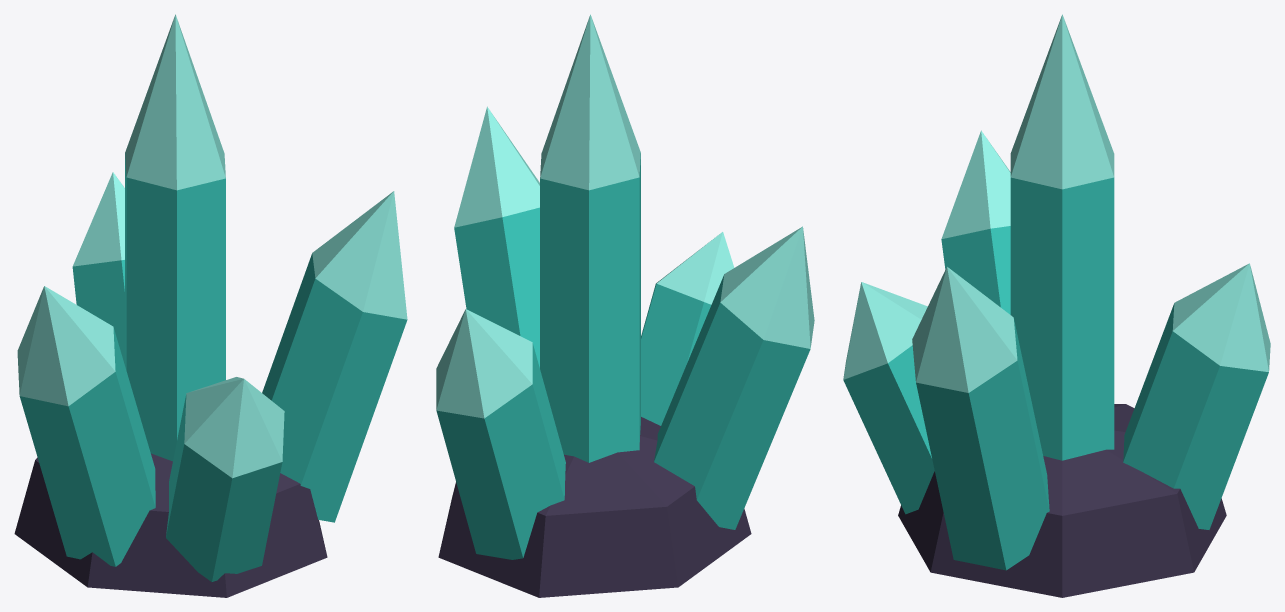
File: env_r12_crystal_cluster_teal.glb
3 views of the same model, side by side, from view 1: azimuth 30°, elevation 25°; view 2: azimuth 150°, elevation 25°; view 3: azimuth 270°, elevation 25° (orthographic).
Visible parts, largest first — view 1: env_r12_crystal_cluster_teal; view 2: env_r12_crystal_cluster_teal; view 3: env_r12_crystal_cluster_teal.
Boxes of the visible parts, <box> form: env_r12_crystal_cluster_teal: <box>14,14,407,597</box>; env_r12_crystal_cluster_teal: <box>436,14,814,597</box>; env_r12_crystal_cluster_teal: <box>843,14,1270,597</box>.
Size of the model in its own units: 1.8 by 2.4 by 1.8.
1 material, 1 textured.
